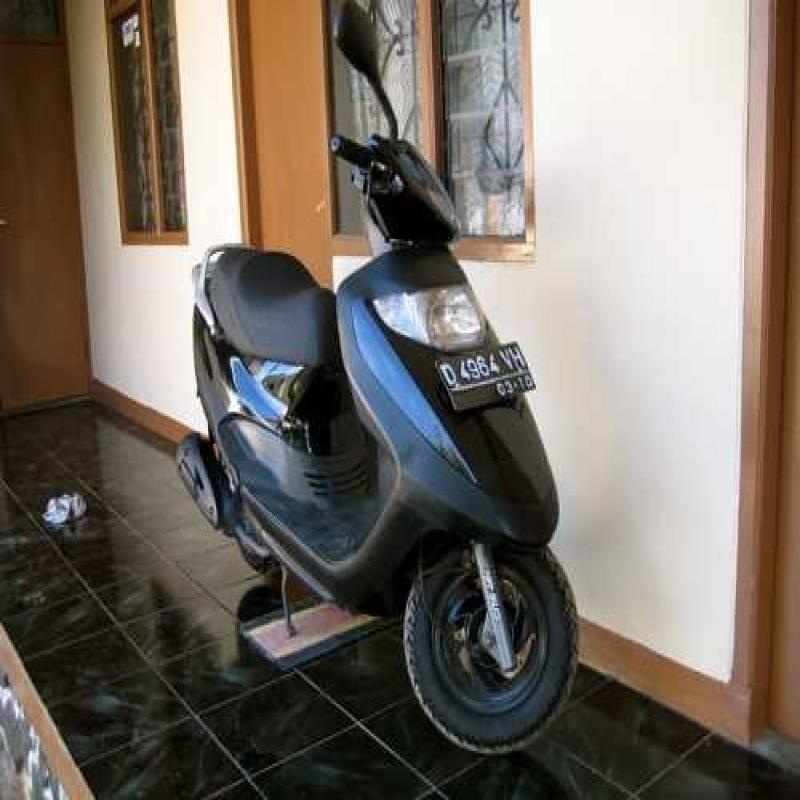bike: (135, 128, 598, 747)
